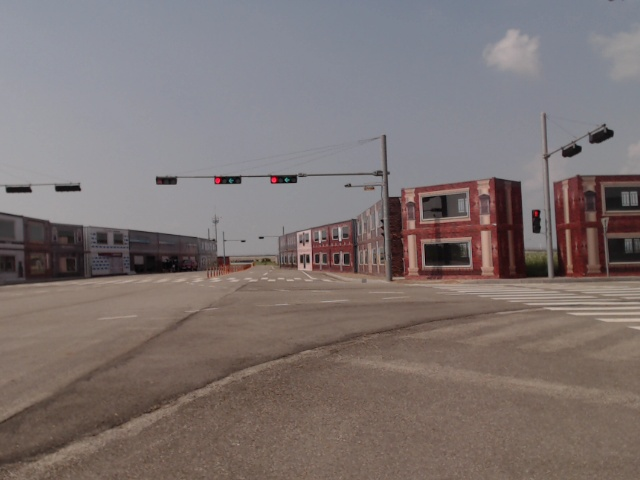left_green_4: (214, 177, 241, 184), (271, 177, 296, 183)
